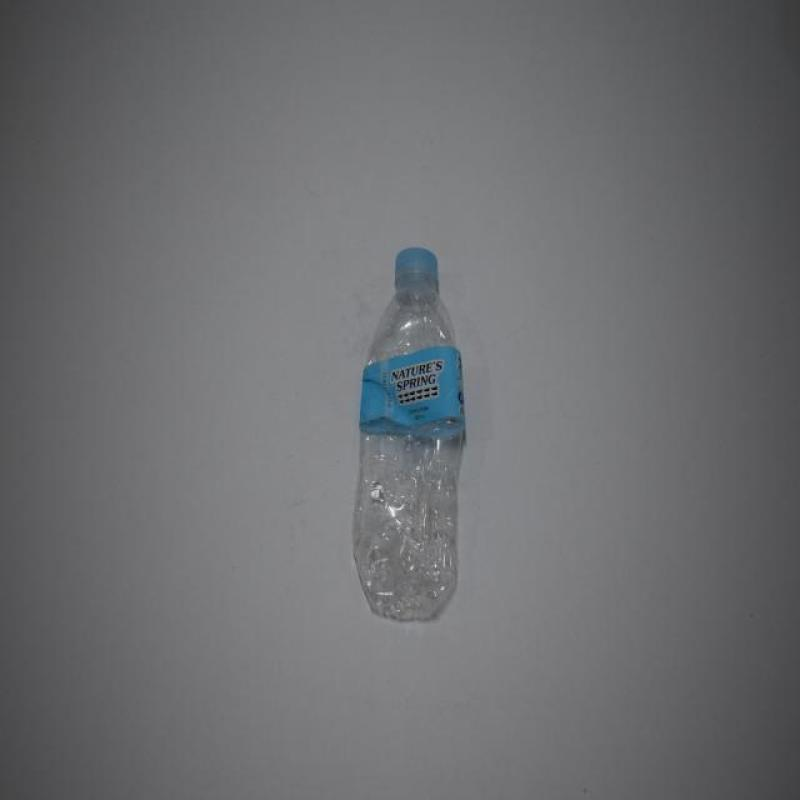botella: (352, 242, 464, 622)
